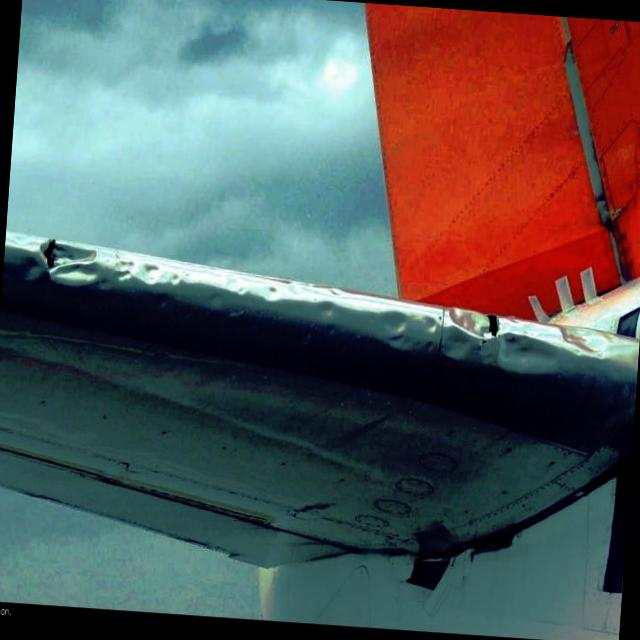dent: (30, 235, 622, 385)
